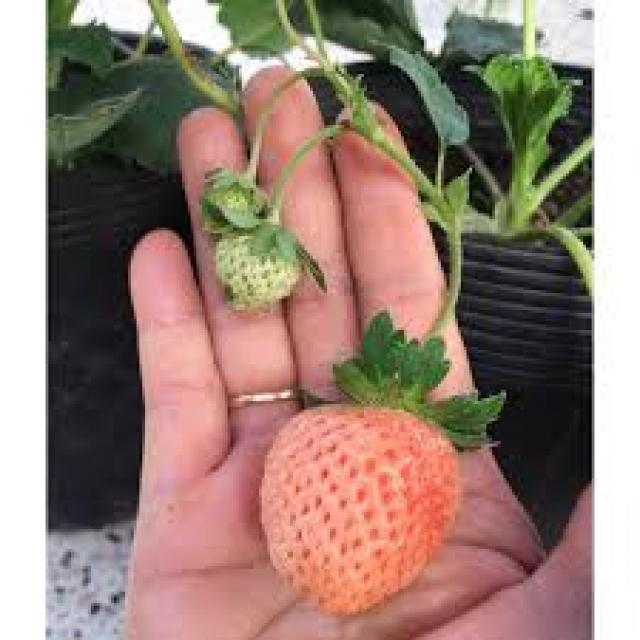Fruta sana: (258, 403, 460, 610)
